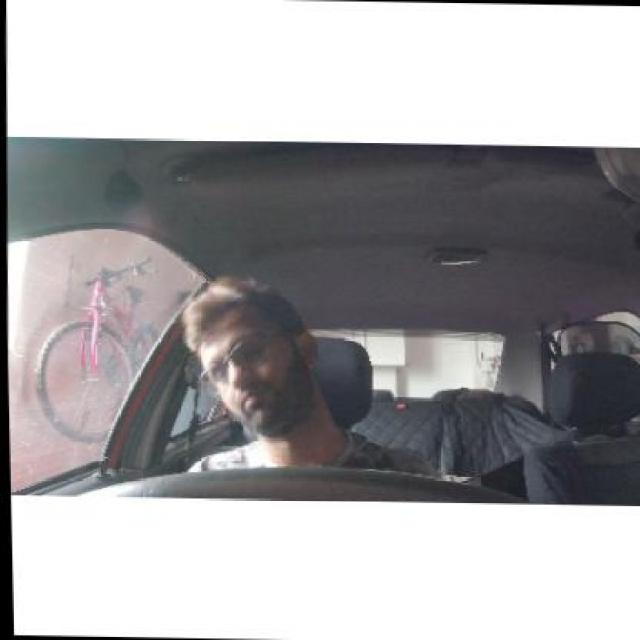drowsy: (176, 266, 326, 439)
